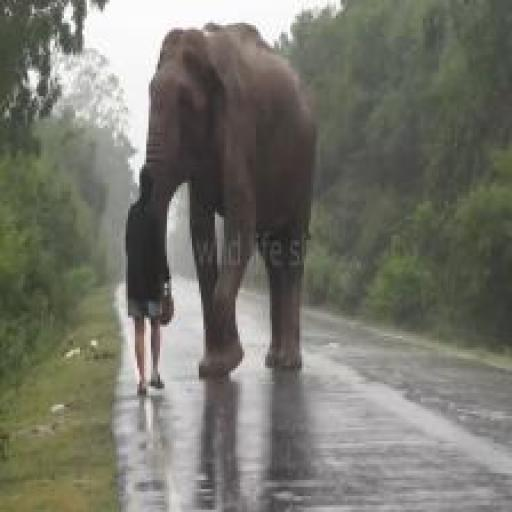Elephant: (142, 16, 319, 390)
